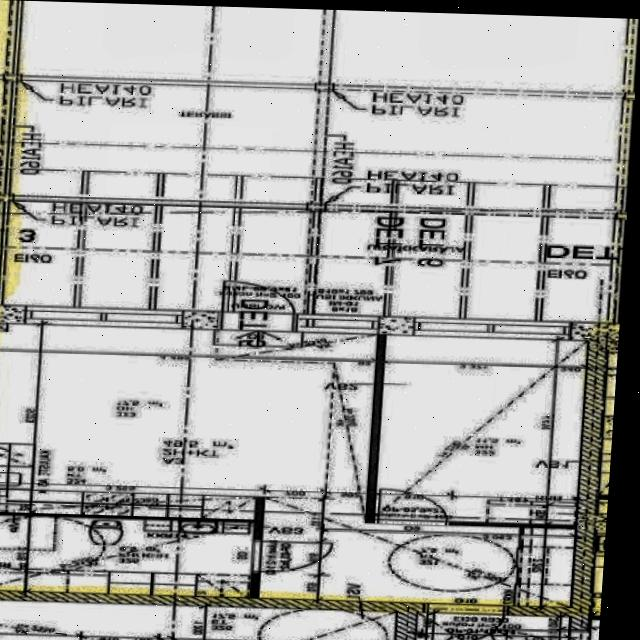room: (375, 335, 588, 525), (0, 515, 255, 598)
